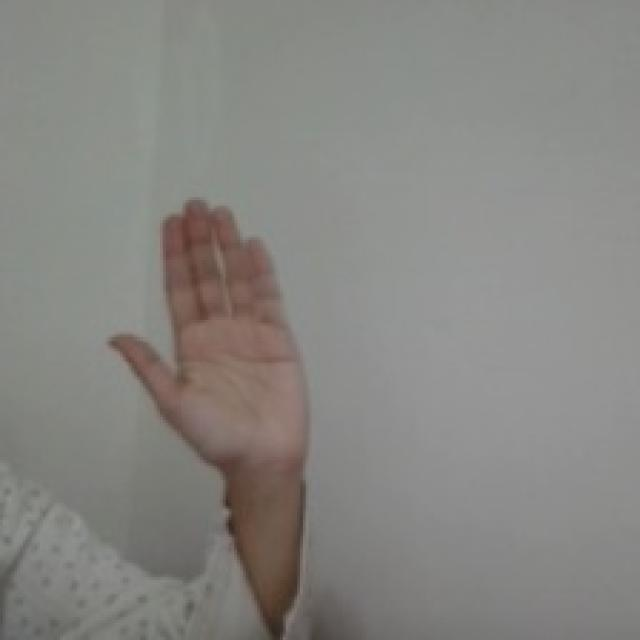Hello: (107, 191, 319, 481)
